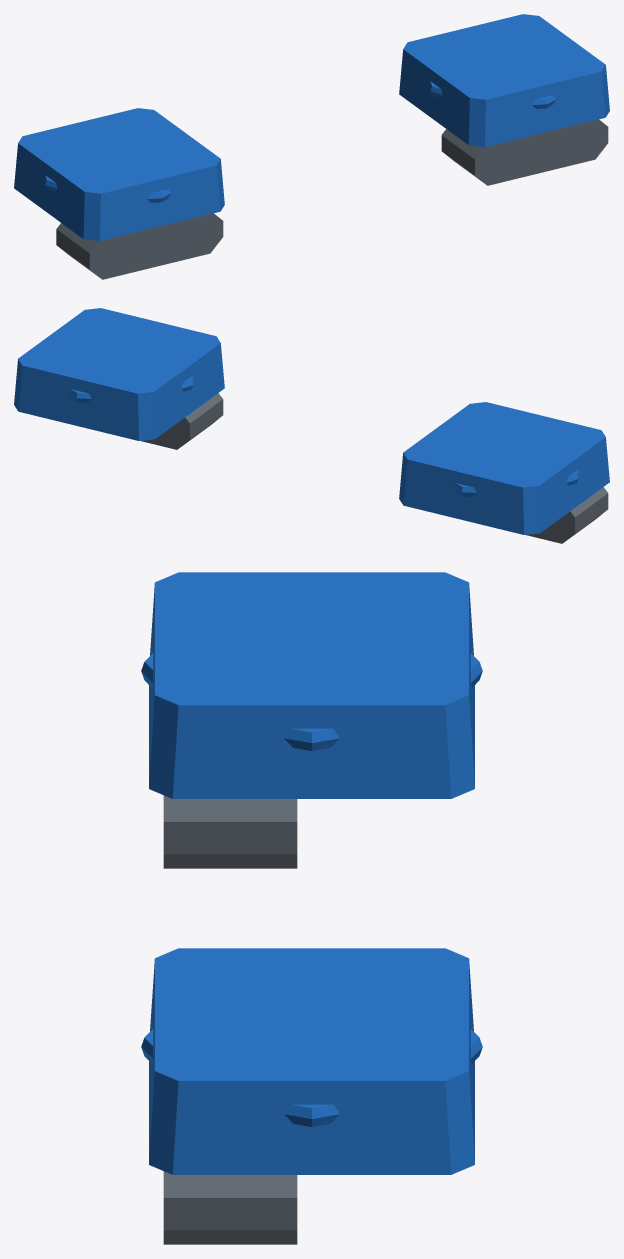
The model's file is gloves_healer_s5.fbx.
The picture shows the model from 3 angles, top to bottom: view 1: azimuth 30°, elevation 25°; view 2: azimuth 150°, elevation 25°; view 3: azimuth 270°, elevation 25°; orthographic projection. The views are drawn at different scales.
Parts seen in each view (by area): view 1: Bracer_L_Band, Bracer_R_Band, Glove_L_Inner, Glove_R_Inner; view 2: Bracer_L_Band, Bracer_R_Band, Glove_R_Inner, Glove_L_Inner; view 3: Bracer_L_Band, Bracer_R_Band, Glove_R_Inner, Glove_L_Inner.
Boxes of the visible parts, bbox=[...] form: Bracer_L_Band: bbox=[14, 108, 224, 240]; Bracer_R_Band: bbox=[399, 14, 609, 146]; Glove_L_Inner: bbox=[56, 213, 223, 279]; Glove_R_Inner: bbox=[441, 119, 608, 185]; Bracer_L_Band: bbox=[399, 402, 609, 534]; Bracer_R_Band: bbox=[14, 308, 224, 440]; Glove_R_Inner: bbox=[141, 393, 223, 449]; Glove_L_Inner: bbox=[526, 487, 608, 543]; Bracer_L_Band: bbox=[141, 572, 482, 798]; Bracer_R_Band: bbox=[141, 948, 482, 1174]; Glove_R_Inner: bbox=[163, 1171, 297, 1244]; Glove_L_Inner: bbox=[163, 795, 297, 868].
Size of the model in its own units: 415 by 66 by 115.
